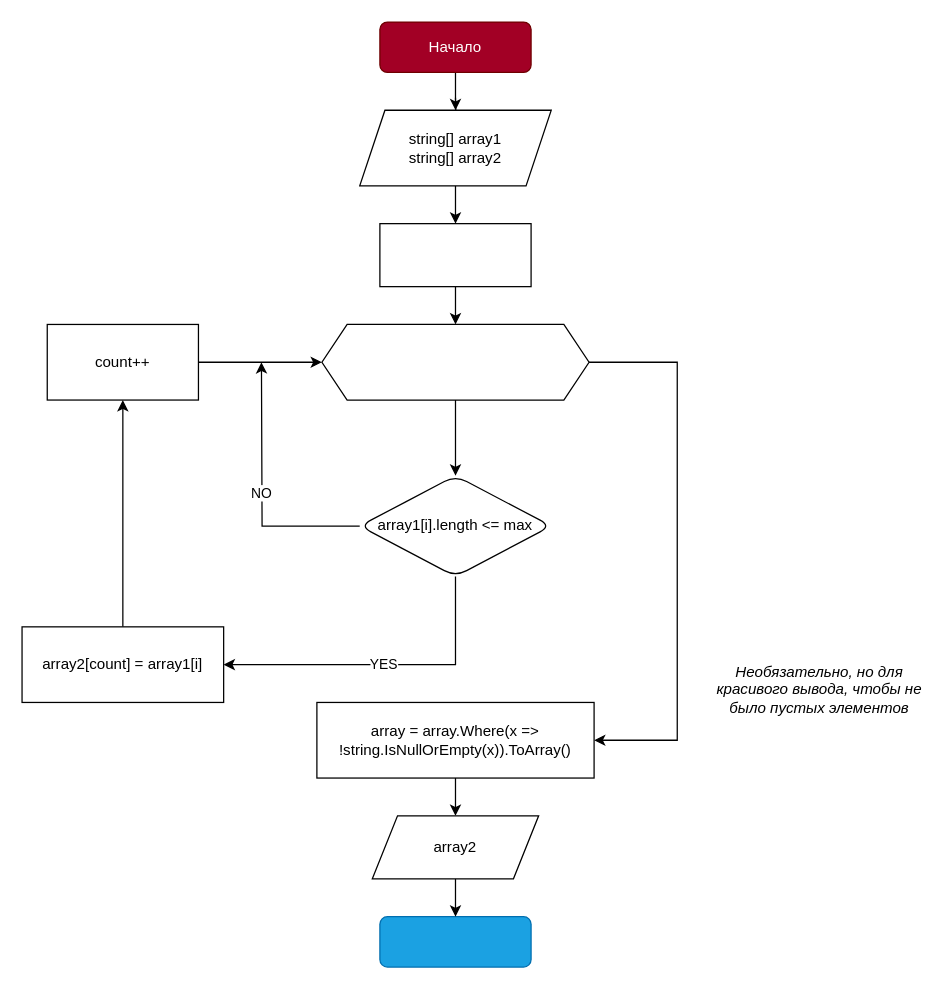
Image size: 946x989. Some labels were removed from this diagram. The shapes that lost their labels are listed below. From the top down, each one's centre as x and y in pixels, then its label:
At point (455, 254): "int max = 3 int count = 0".
At point (455, 361): "for (int i = 0; i < array1.Length; i++)".
At point (455, 941): "Конец".
